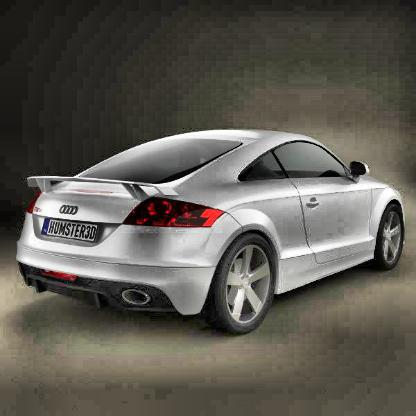Audi TT RS Coupe 2012: (18, 131, 407, 336)
